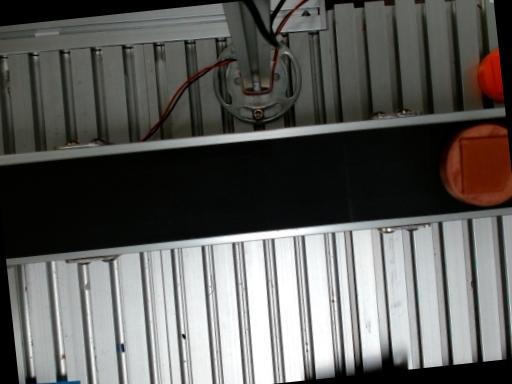Brown_Waper: (439, 124, 512, 205)
